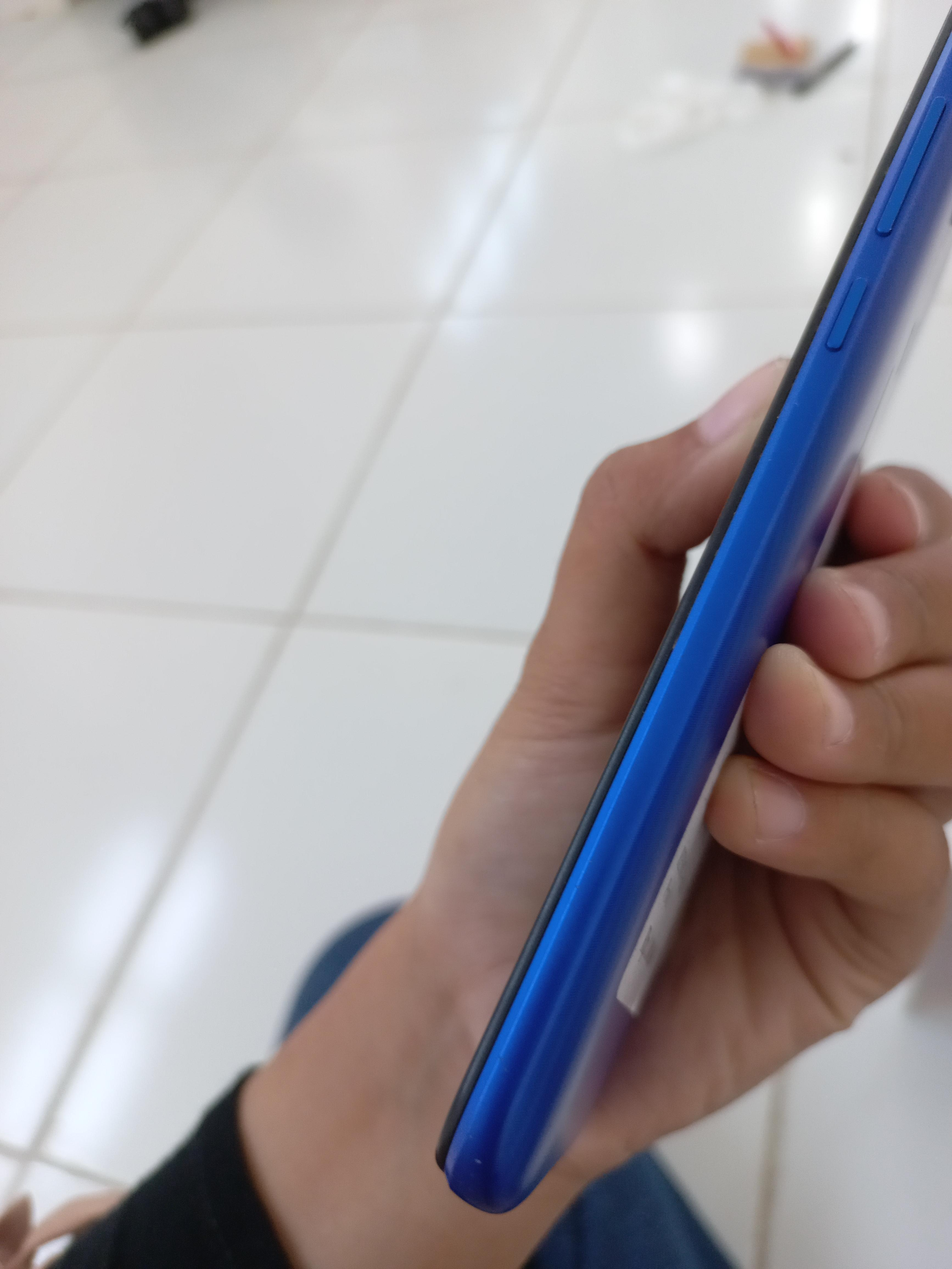Dents: (469, 1145, 485, 1174)
